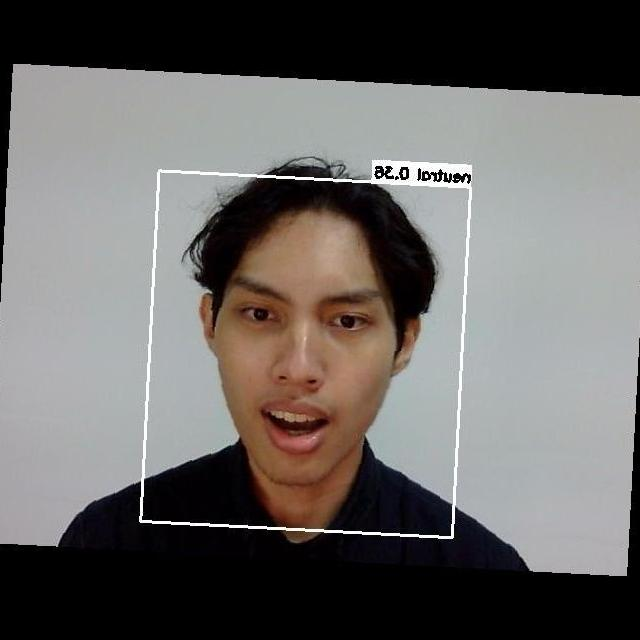Surprised: (192, 245, 409, 475)
